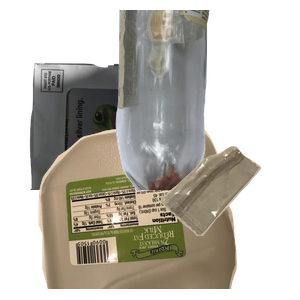glass: (113, 10, 300, 190)
paper: (27, 60, 223, 240)
plastic: (36, 120, 265, 300)
trash: (158, 144, 300, 300)
